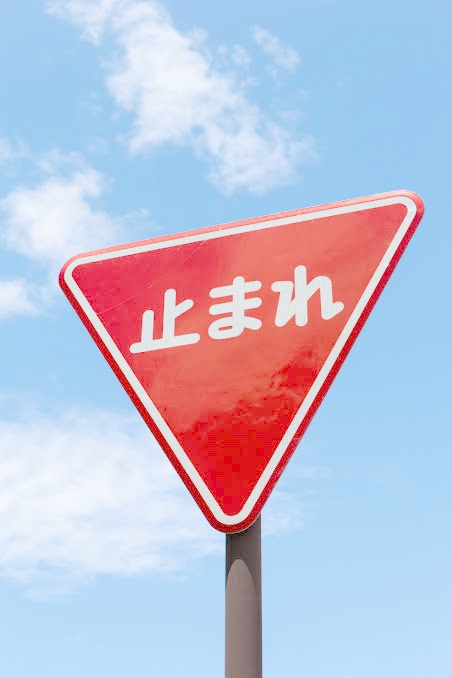Regulatory_sign_triangle: (52, 181, 425, 534)
